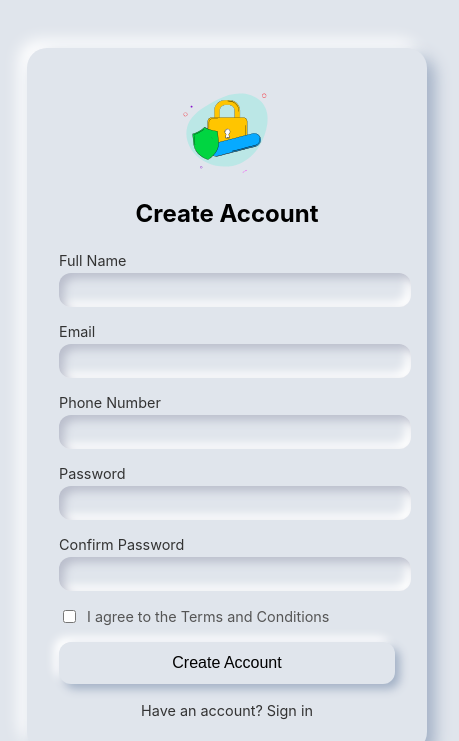
Test: Signup Page › shows validation errors for empty fields
Click the submit button at [227, 664], box [59,643,395,685]
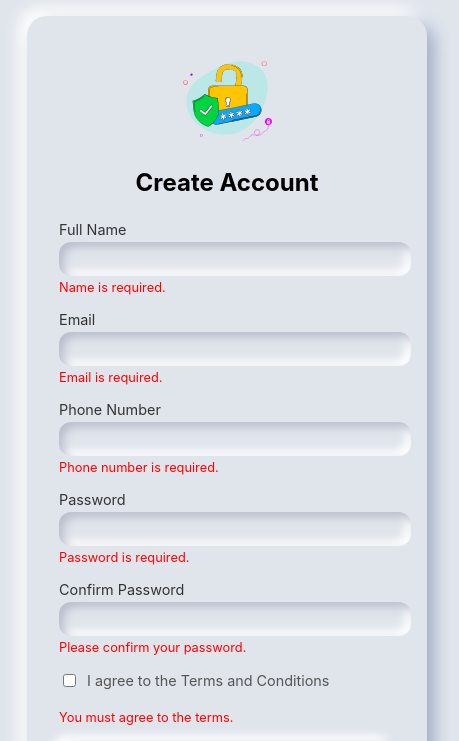
Expected: the text "Name is required." is shown, [59,221,395,295]
Expected: the text "Email is required." is shown, [59,311,395,385]
Expected: the text "Phone number is required." is shown, [59,401,395,475]
